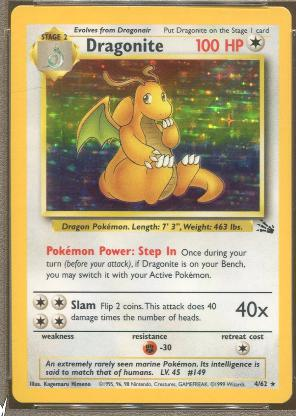Card: (7, 3, 293, 408)
